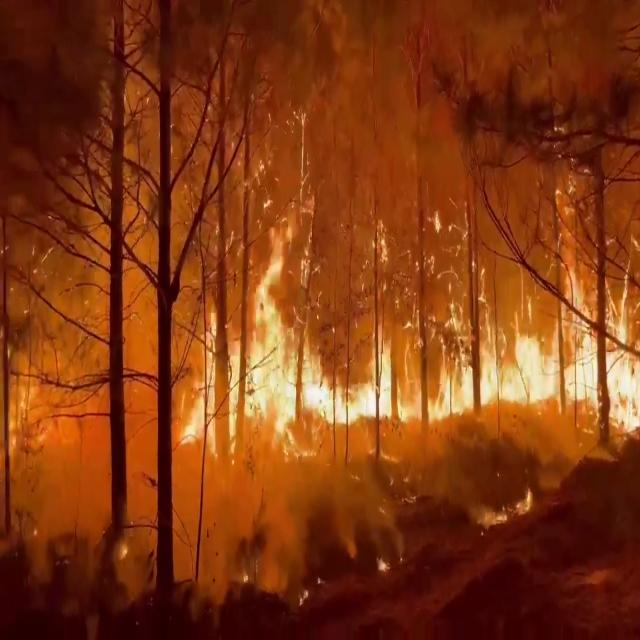Fire: (178, 241, 426, 467), (437, 244, 640, 433)
Smoke: (0, 0, 226, 562), (324, 0, 640, 348)
